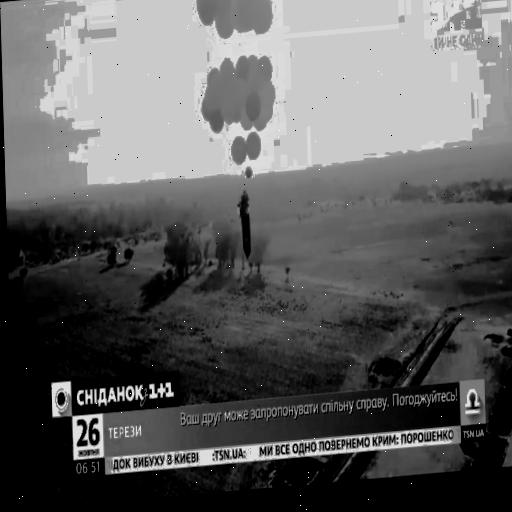balloon: (234, 0, 256, 29), (216, 8, 235, 37), (255, 0, 272, 32), (197, 0, 218, 24), (247, 65, 264, 94), (256, 98, 274, 124), (235, 56, 251, 84), (245, 93, 261, 120), (246, 133, 262, 160), (219, 99, 234, 127), (200, 95, 218, 118), (260, 81, 276, 106), (260, 54, 273, 81), (209, 106, 223, 131), (206, 86, 221, 109), (233, 137, 246, 163), (234, 78, 247, 104), (231, 96, 243, 124), (219, 78, 233, 100), (220, 59, 235, 78), (242, 106, 253, 130), (249, 52, 261, 73), (212, 0, 234, 11), (208, 68, 219, 83), (255, 119, 268, 131), (247, 169, 252, 178)
